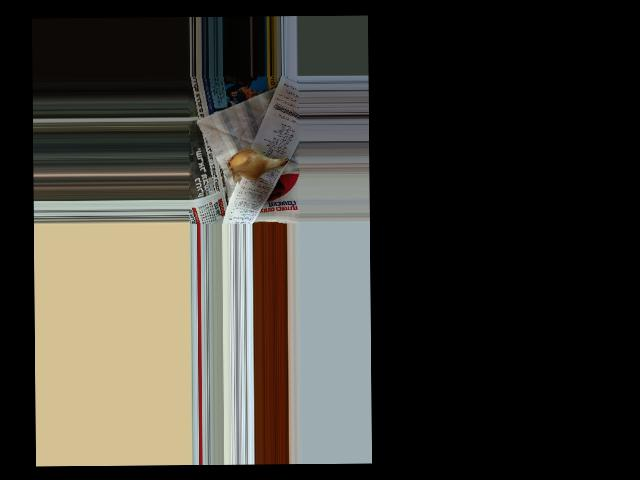onion: (229, 147, 272, 178)
